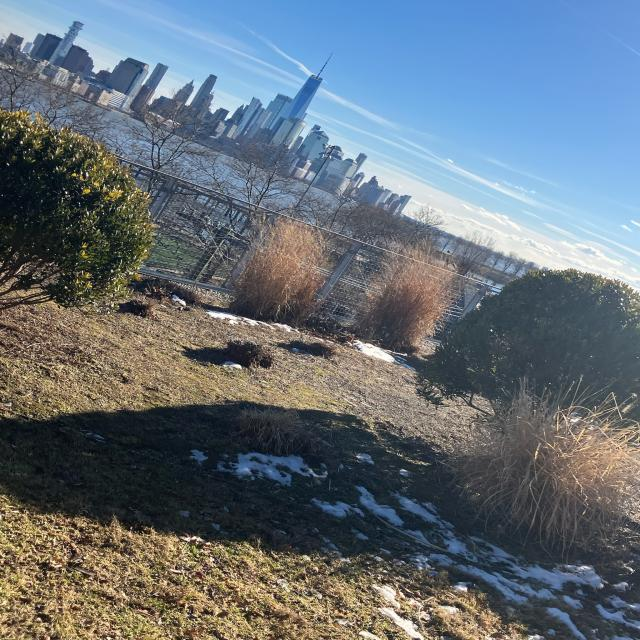WTC: (285, 51, 339, 119)
